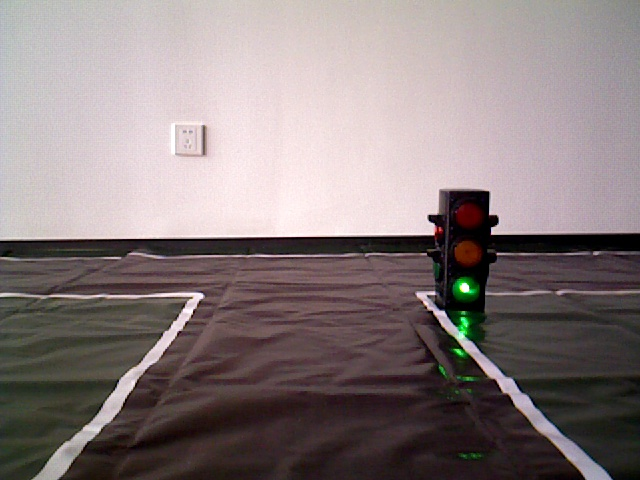green: (439, 195, 485, 307)
